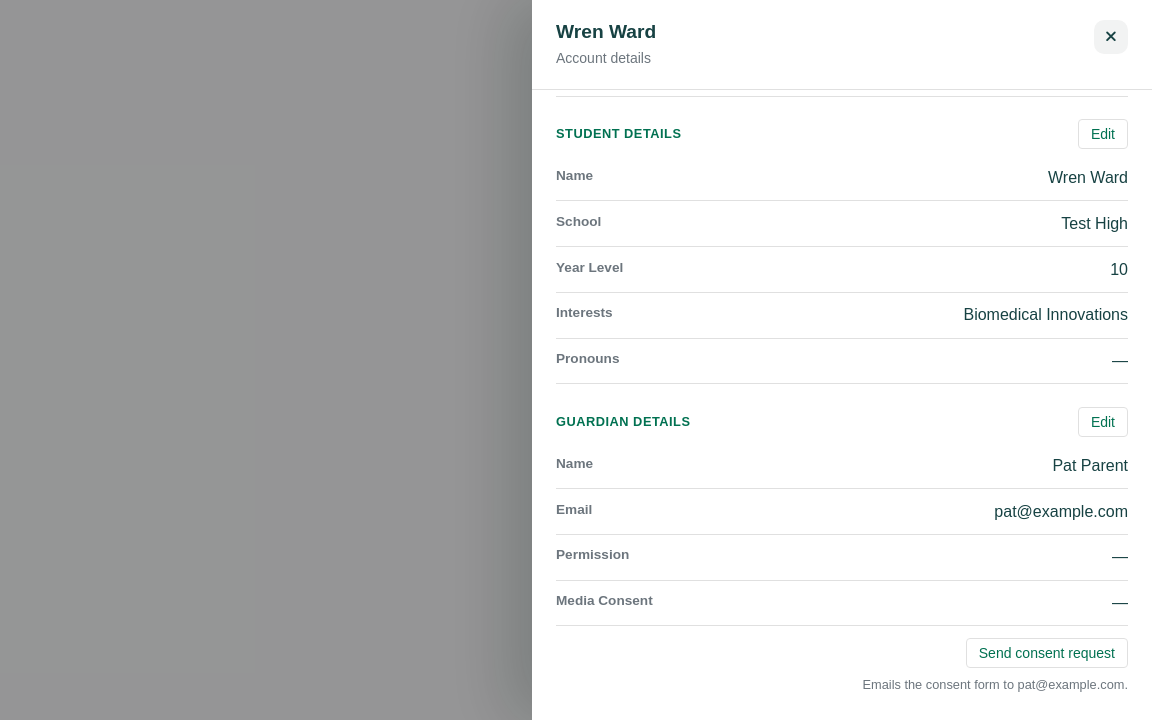
Scenario: admin user detail: consent request › sends and passes the updated user up
The width and height of the screenshot is (1152, 720).
(page scrolled)
Step 1. Click the button with test id "admin-send-consent-request" → click(1047, 653), box [966,638,1128,668]
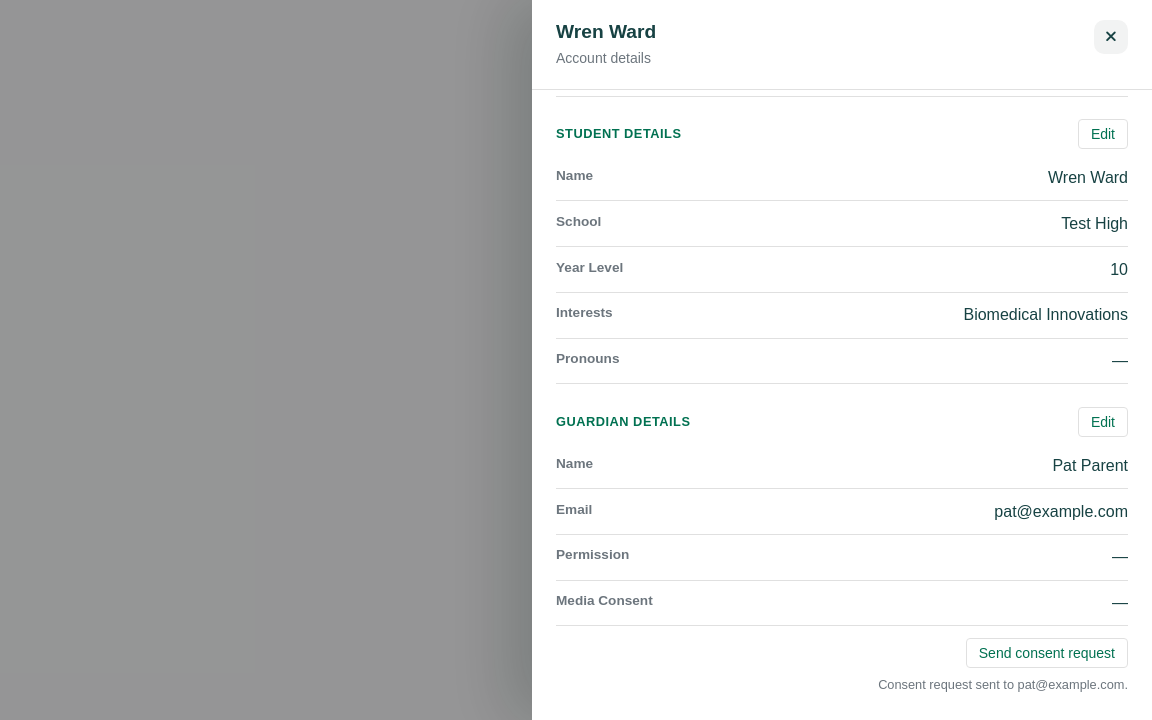
Expected: the message with test id "admin-consent-request-message" reads "Consent request sent to pat@example.com.", [878,677,1128,692]
